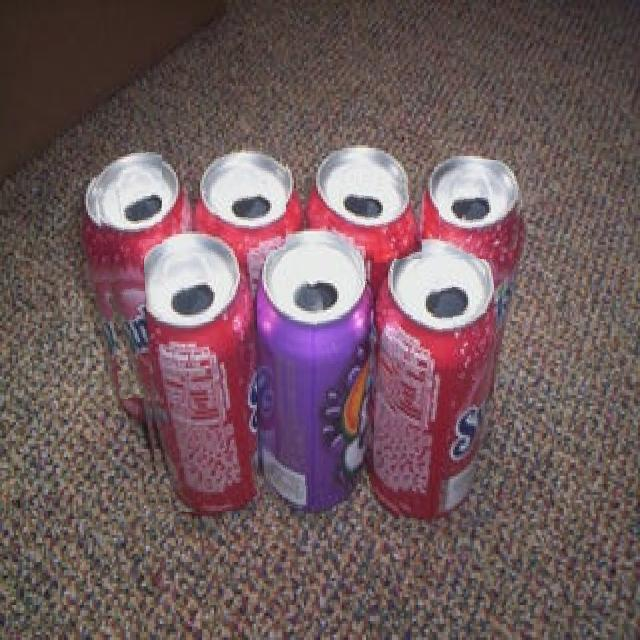Cans: (143, 244, 257, 512), (388, 259, 494, 529), (265, 250, 374, 507), (92, 146, 162, 399), (319, 174, 422, 263), (439, 160, 526, 257), (212, 145, 286, 253)
